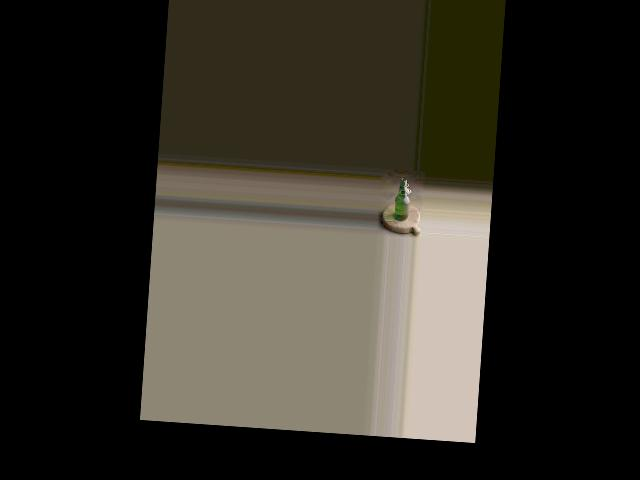beer: (394, 177, 411, 220)
